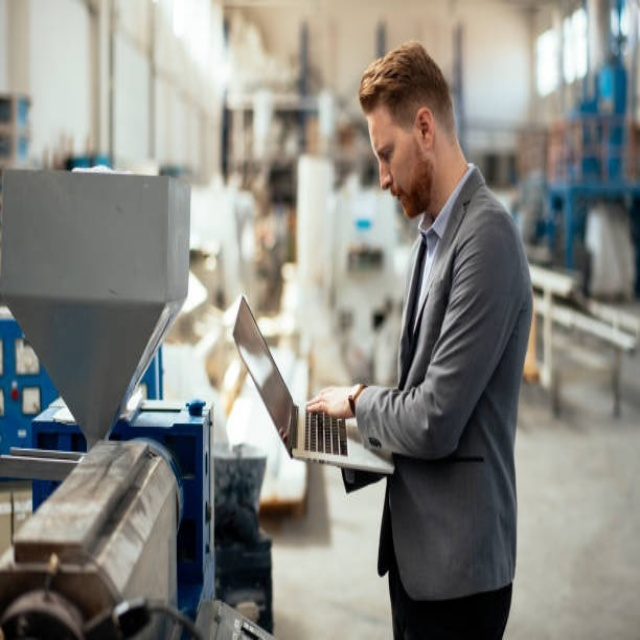Sin_gafas: (373, 129, 401, 166)
Sin_guantes: (305, 384, 356, 421)
Sin_mascara: (387, 173, 411, 220)
